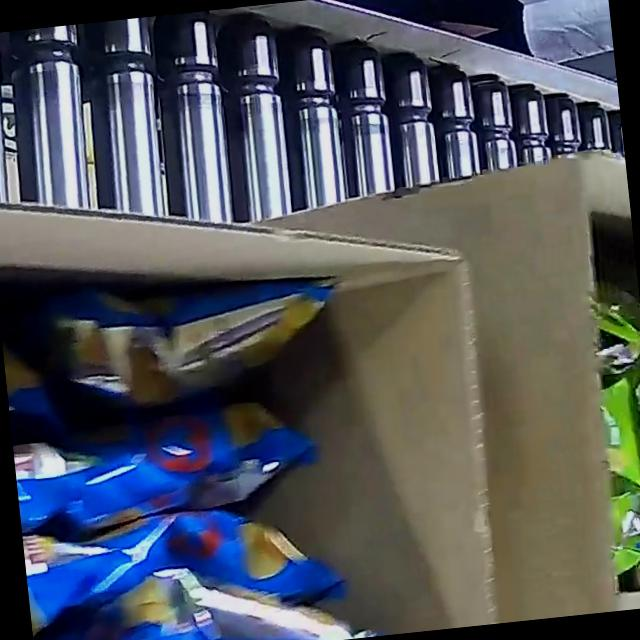paprika: (0, 219, 390, 640)
yogurt: (581, 274, 640, 579)
